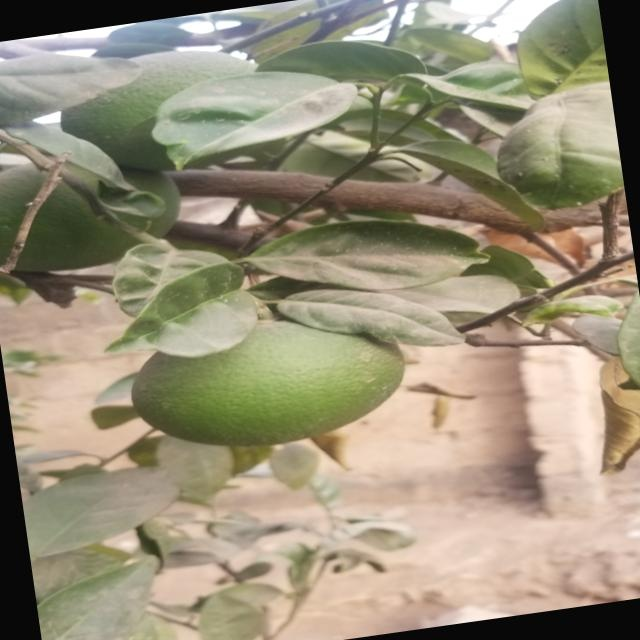agrume: (130, 323, 410, 461), (0, 134, 196, 289), (76, 39, 241, 175)
